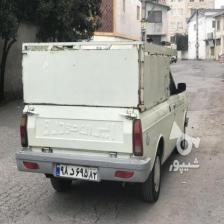plate: (55, 162, 98, 178)
